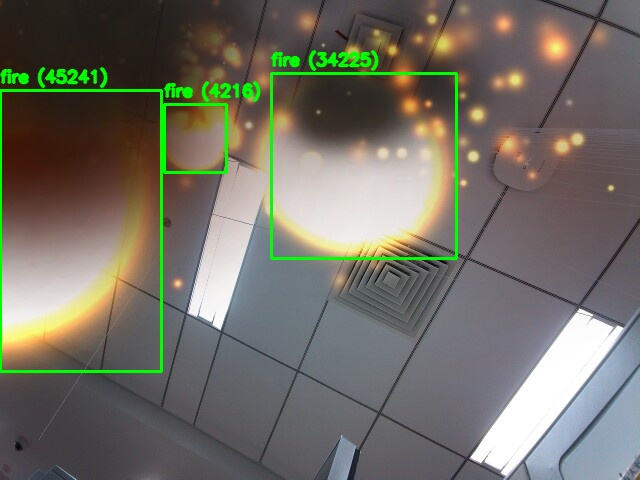fire: (0, 90, 161, 371), (271, 73, 456, 258), (164, 104, 226, 172)
